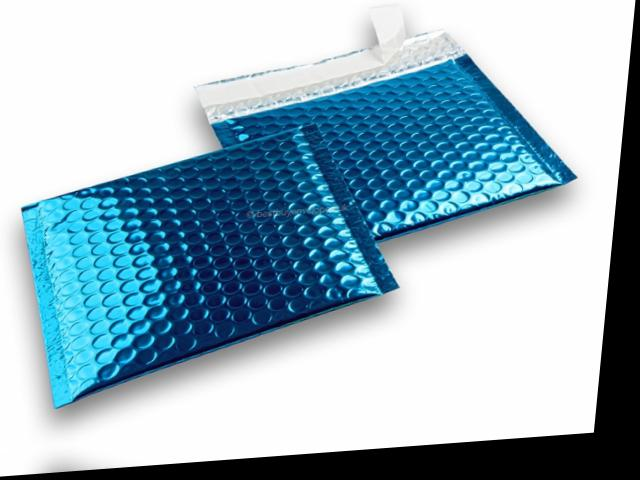package: (19, 117, 399, 410), (199, 24, 578, 262)
